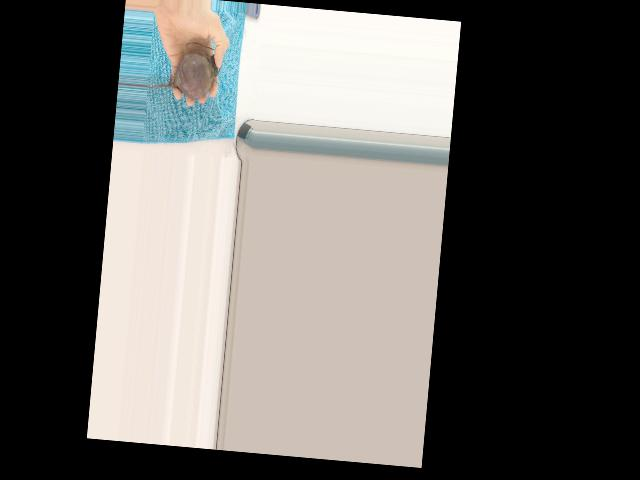beet: (145, 39, 223, 101)
